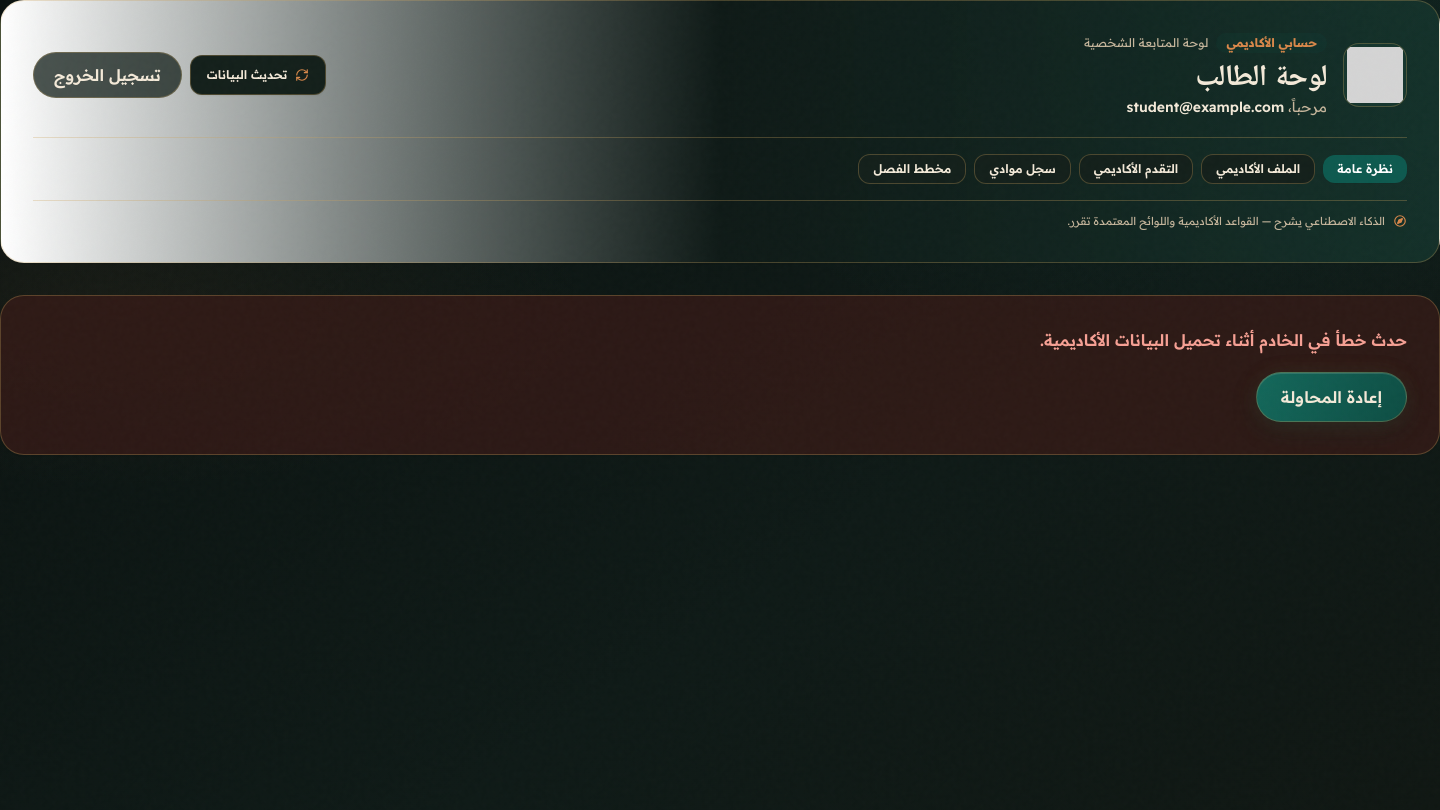
Scenario: Student Dashboard (لوحة الطالب) › re-fetches data when clicking retry button after recoverable error
Check: the message "حدث خطأ في الخادم أثناء تحميل البيانات الأكاديمية. إعادة المحاولة" is shown, box [0,294,1439,454]
Click the button "إعادة المحاولة" at (1331, 396), box [1256,372,1407,422]
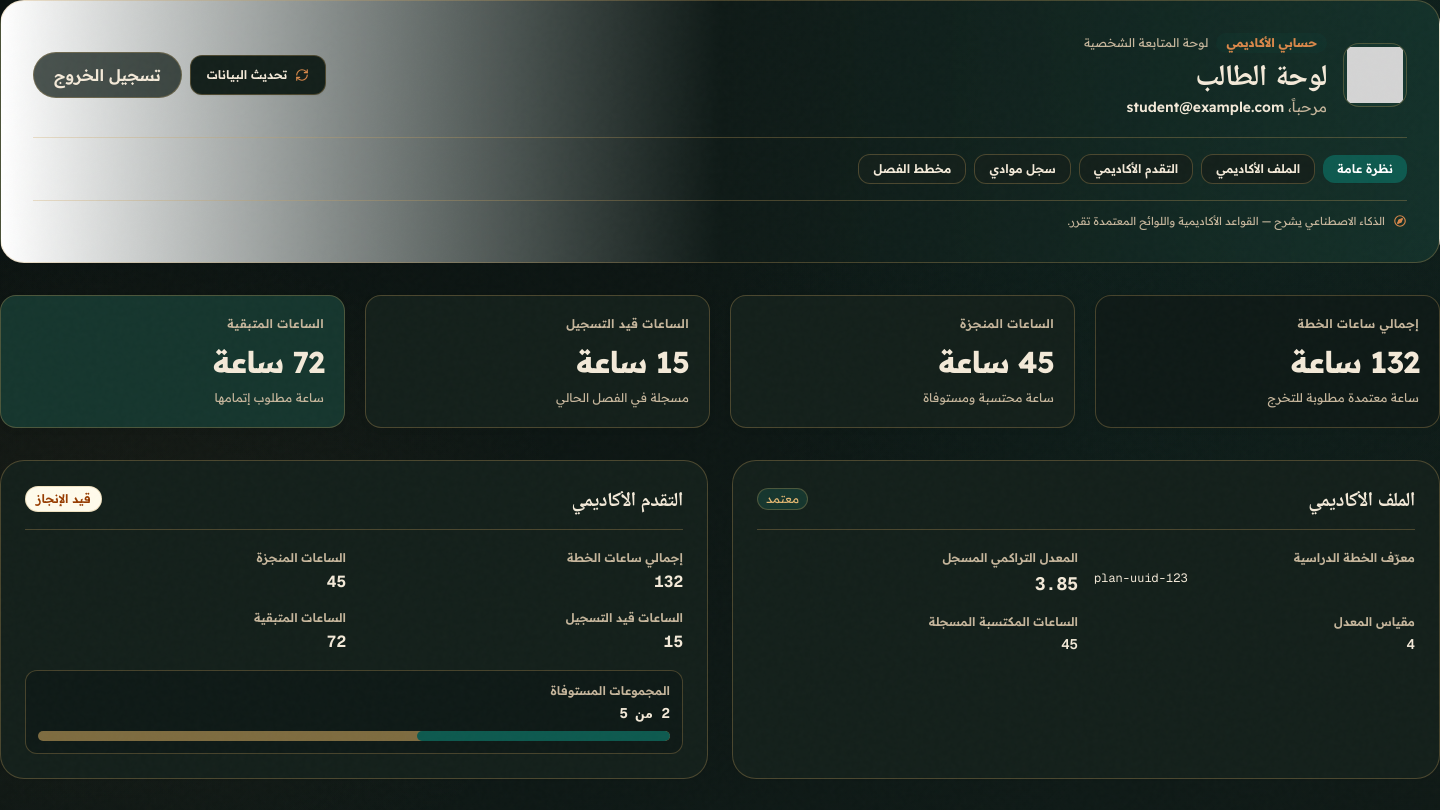
Check: the heading "الملف الأكاديمي" is shown, box [1308,485,1415,513]
Check: the message "حدث خطأ في الخادم أثناء تحميل البيانات الأكاديمية. إعادة المحاولة" is gone
